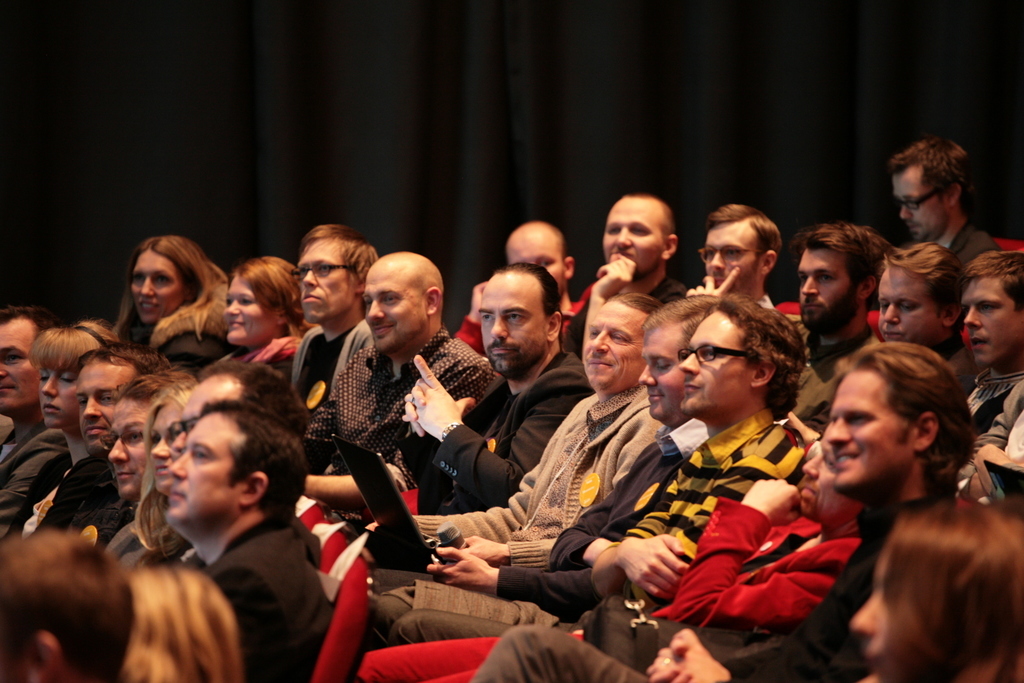face: (0, 320, 43, 410)
